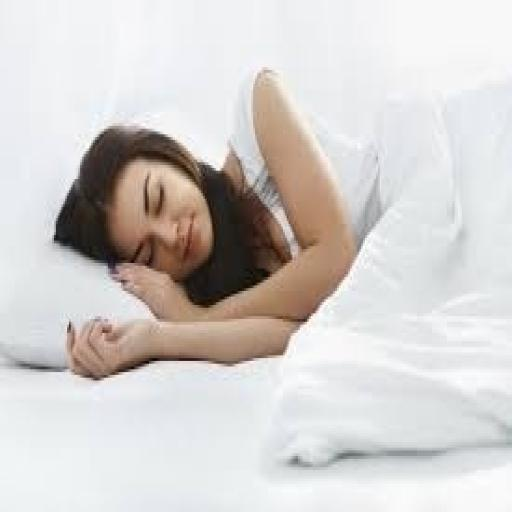sleeping: (52, 62, 361, 380)
